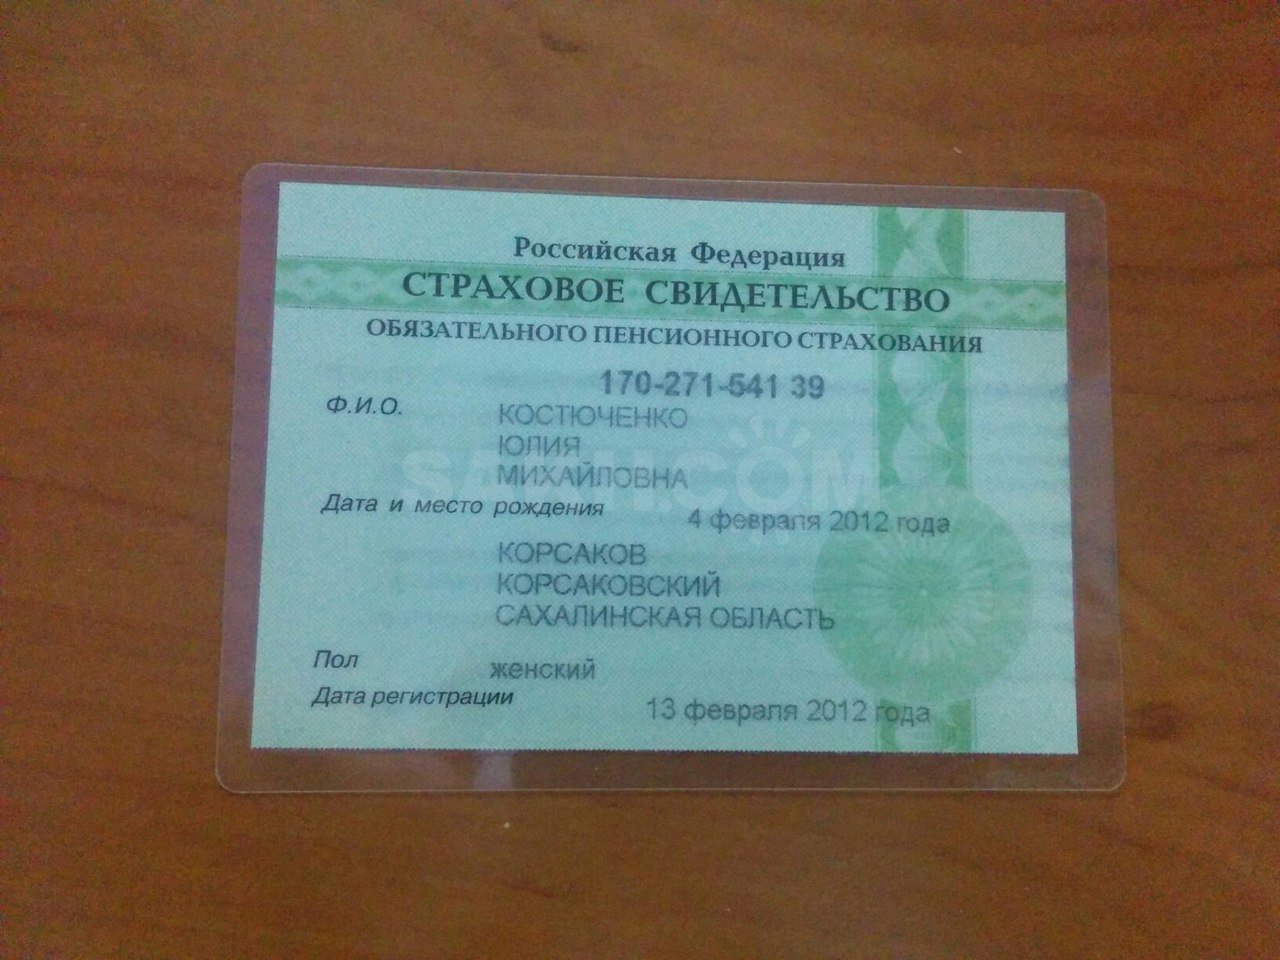text: (485, 532, 844, 635), (635, 687, 935, 727), (682, 500, 952, 541), (592, 360, 837, 402), (497, 394, 700, 431), (485, 456, 695, 490), (490, 428, 602, 463), (481, 657, 605, 684)
